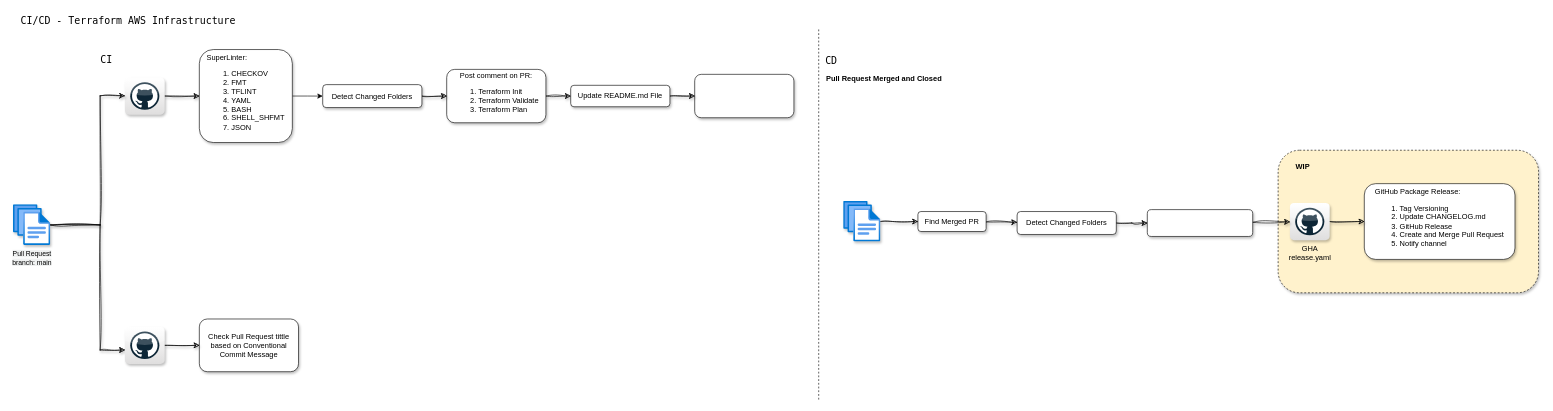
This 1553x411 diagram has some shape labels left out. Here are the shapes that lost their labels. From the top down, the centre of each, then its label:
At pixel 145 96: "GHA ci-cd-aws.yaml".
At pixel 745 96: "Post comment on PR: Cloud Infracost".
At pixel 862 222: "Push branch: main".
At pixel 1200 224: "Terraform Apply on each folder".
At pixel 145 346: "GHA pr-title-check.yaml".
